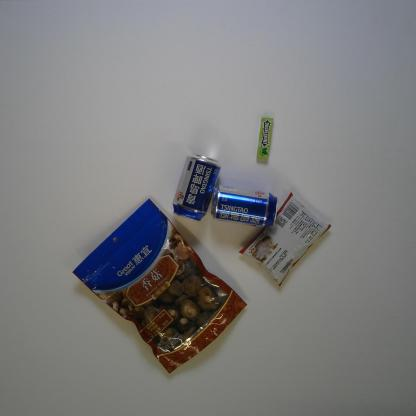Alcohol: (171, 153, 222, 222), (209, 184, 279, 228)
Dried Food: (71, 196, 248, 375)
Gum: (256, 116, 274, 159)
Seasoner: (238, 191, 332, 288)
